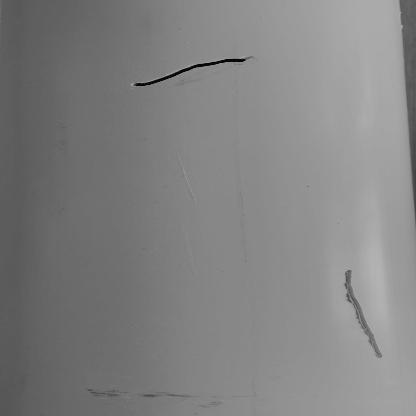fengxi: (129, 55, 255, 88)
sunshang: (340, 267, 388, 357)
